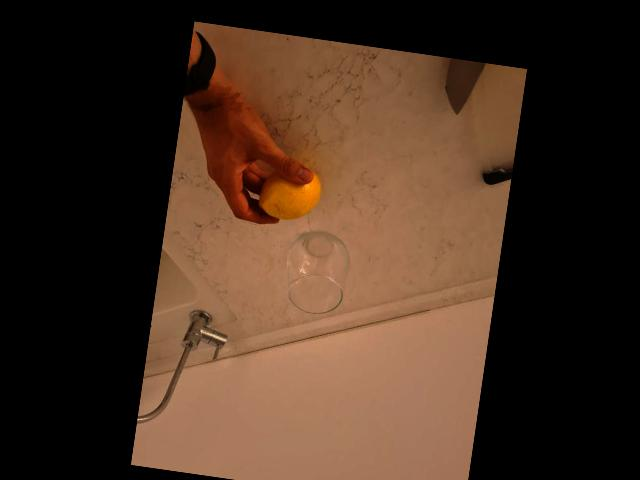lemon: (257, 166, 321, 221)
